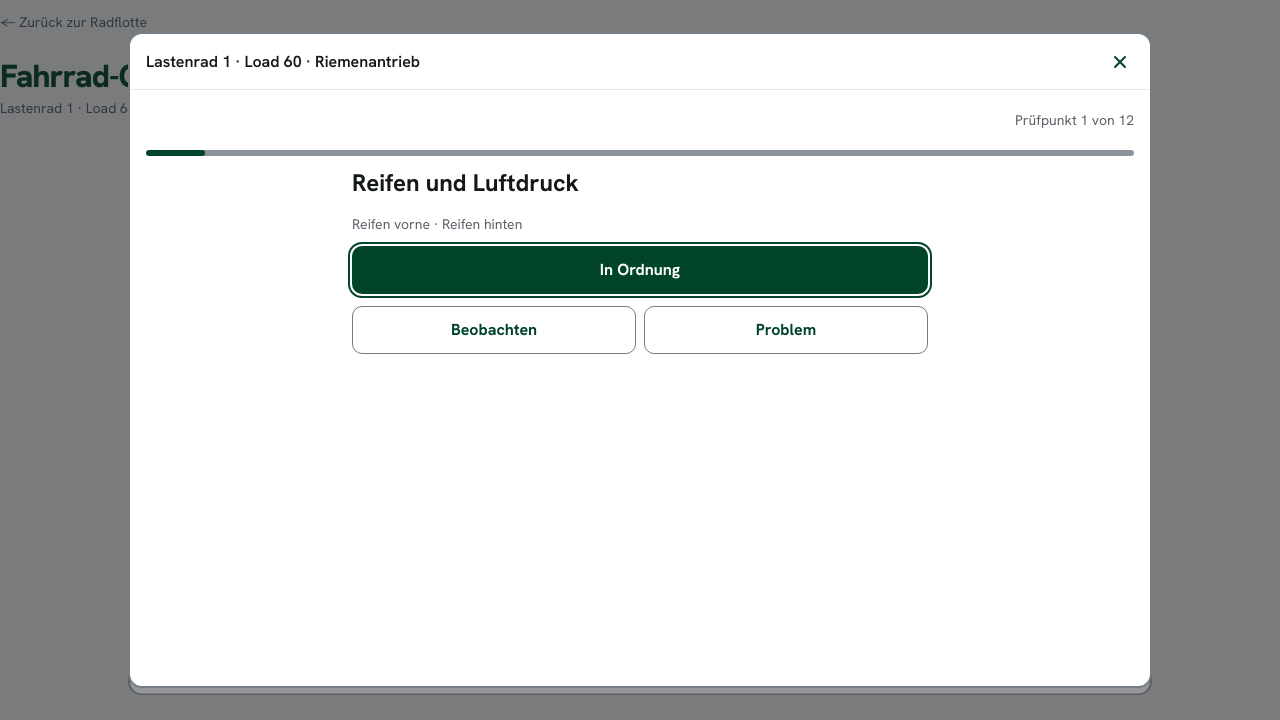
Geführter Check-Up › bietet auf „Wo genau?“ „Doch in Ordnung“ und sagt auf der nächsten Seite, was notiert ist
This screenshot has width=1280, height=720.
Click the button "In Ordnung" below "Reifen vorne · Reifen hinten". click: (640, 270)
box: [352,246,928,294]
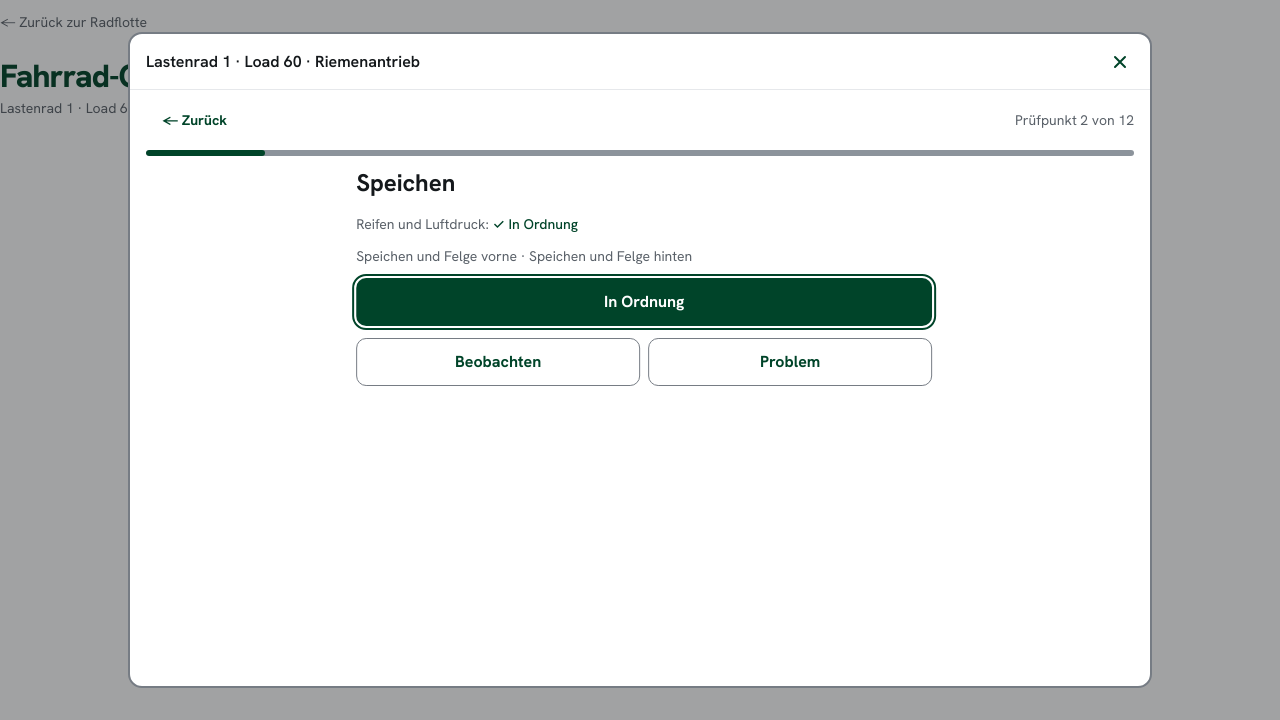
Click the button "In Ordnung". click: (641, 302)
box: [353,278,929,326]
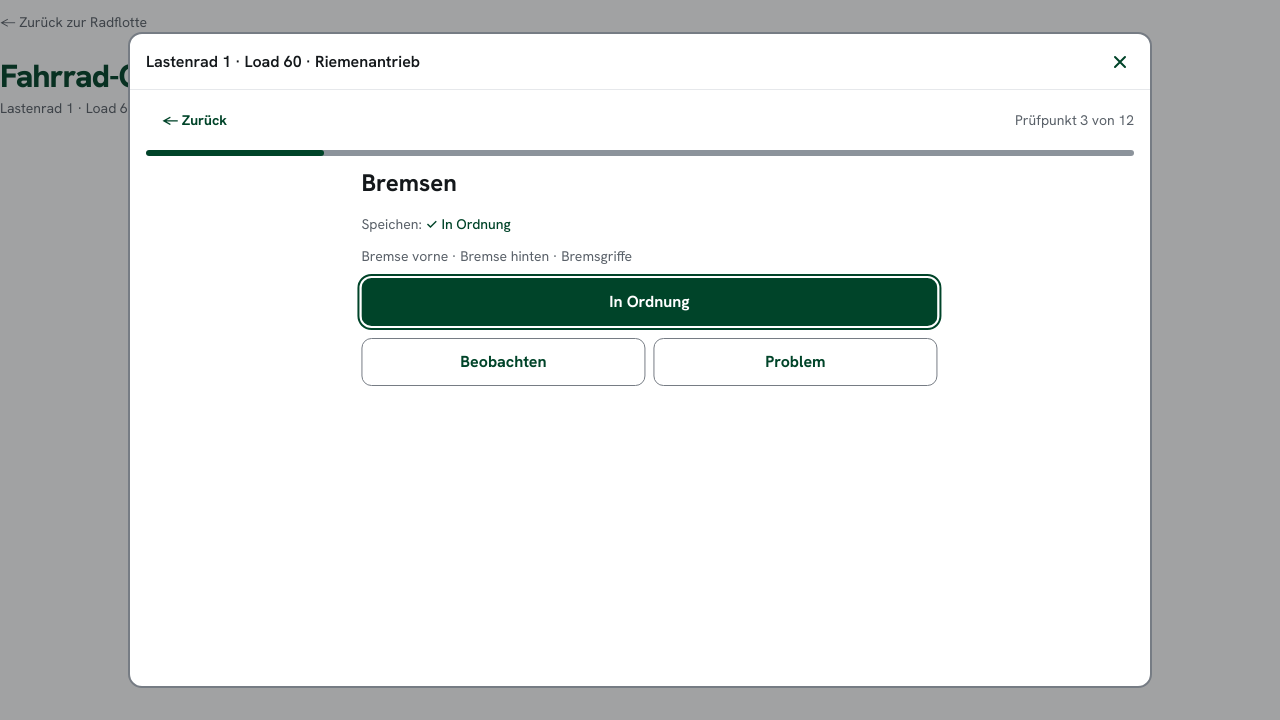
Click the button "Problem". click: (790, 362)
box: [648,338,932,386]
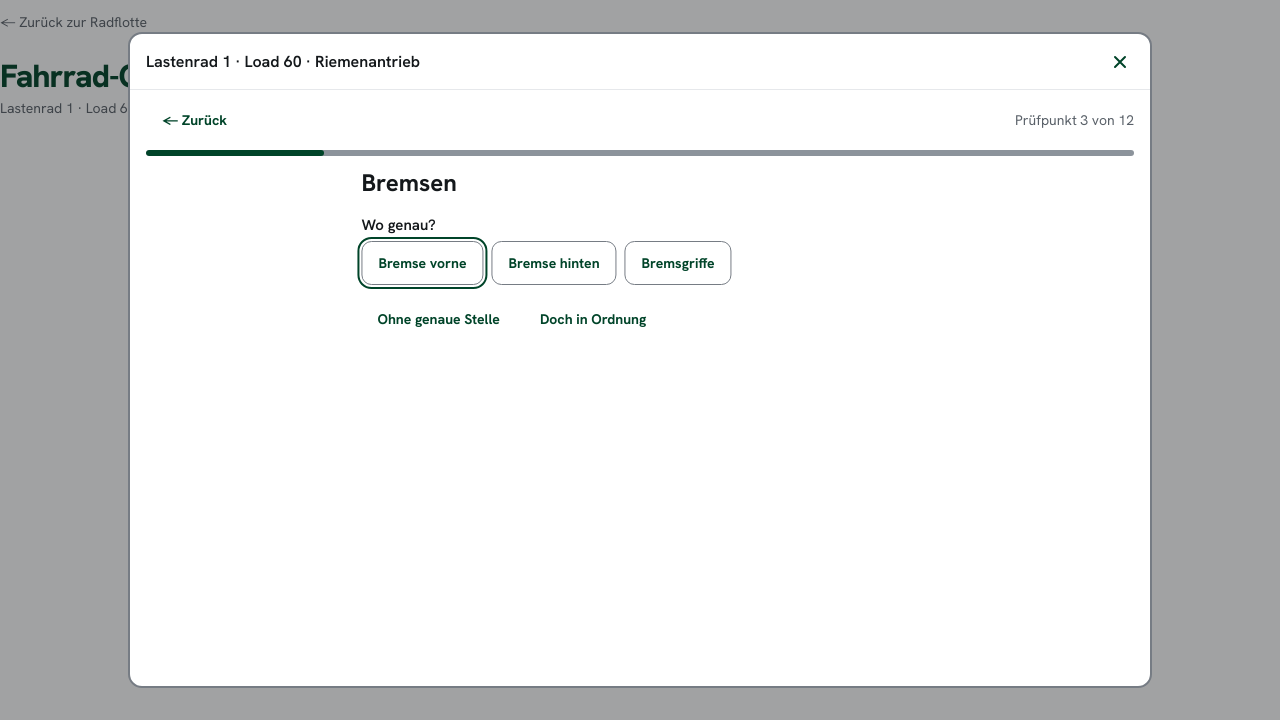
Click the button "Doch in Ordnung". click: (588, 318)
box: [519,296,657,340]
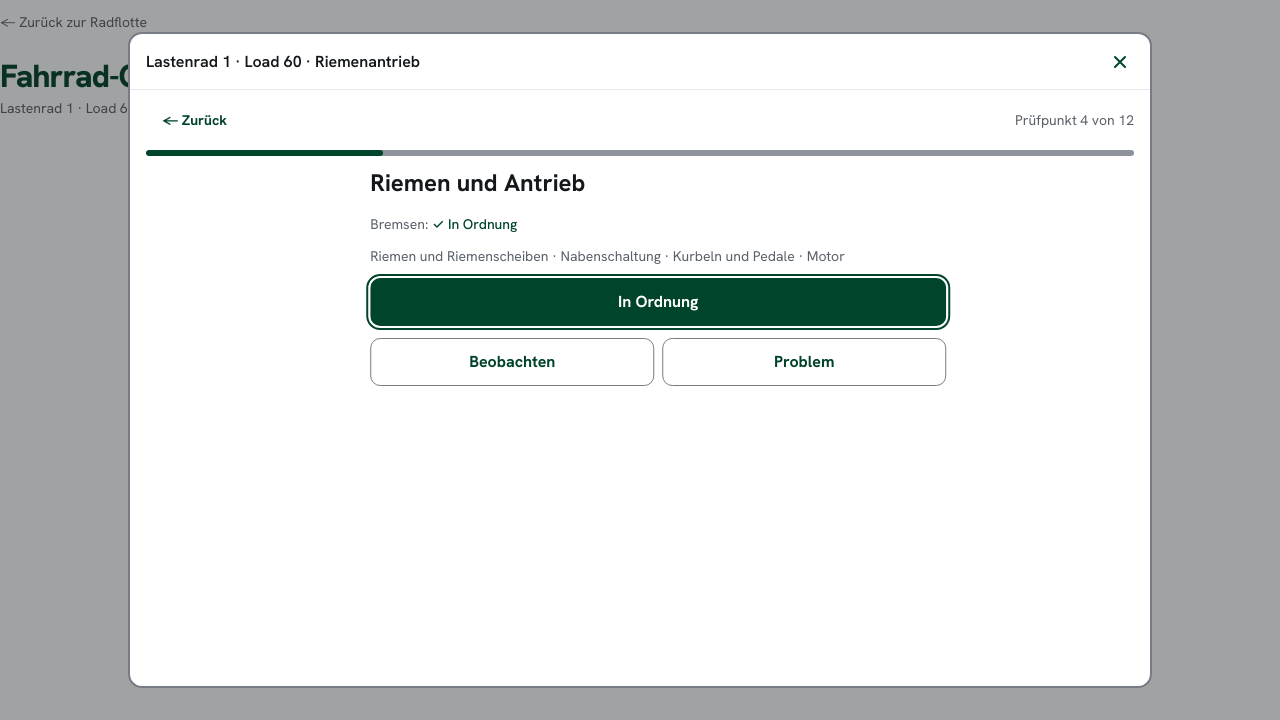
Check: the message reads "Bremsen: ✓ In Ordnung", box [361,215,508,233]
